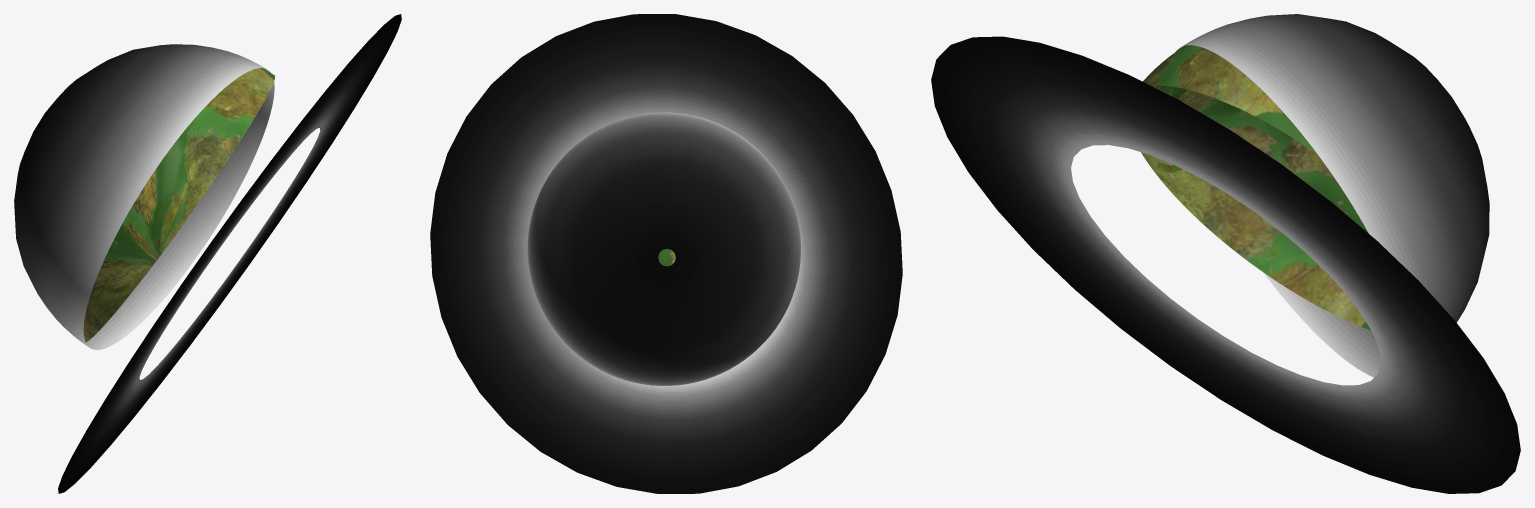
File: env_space_felucia_01_pre.glb
The picture shows the model from 3 angles, left to right: view 1: azimuth 30°, elevation 25°; view 2: azimuth 150°, elevation 25°; view 3: azimuth 270°, elevation 25°; orthographic projection. The views are drawn at different scales.
Parts seen in each view (by area): view 1: planet_fresnel_mesh, planet_glow_mesh, planet_body_mesh; view 2: planet_glow_mesh, planet_fresnel_mesh; view 3: planet_glow_mesh, planet_fresnel_mesh, planet_body_mesh.
Part boxes in pixels (bbox=[...]): planet_fresnel_mesh: bbox=[14, 44, 274, 349]; planet_glow_mesh: bbox=[58, 14, 401, 493]; planet_body_mesh: bbox=[83, 68, 274, 342]; planet_glow_mesh: bbox=[430, 14, 902, 493]; planet_fresnel_mesh: bbox=[527, 112, 800, 385]; planet_glow_mesh: bbox=[931, 36, 1520, 493]; planet_fresnel_mesh: bbox=[1175, 14, 1489, 377]; planet_body_mesh: bbox=[1141, 45, 1370, 330].
Bounding box in the file's own units: 708 × 744 × 744.
3 materials, 3 textured.
